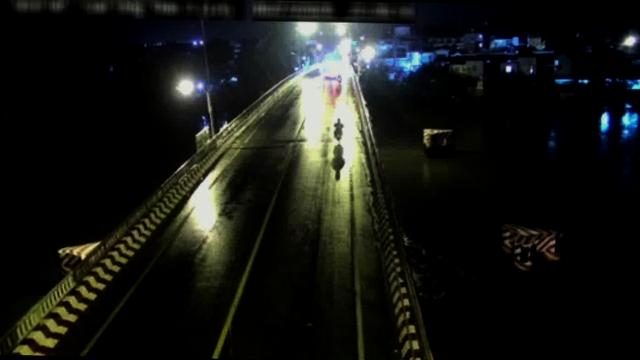Bike: (333, 116, 345, 140)
